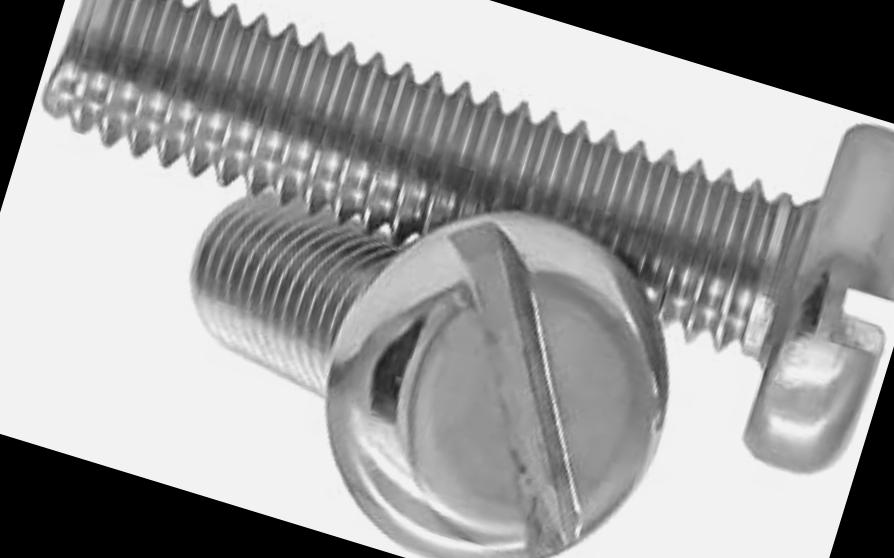slotted: (282, 166, 720, 558)
